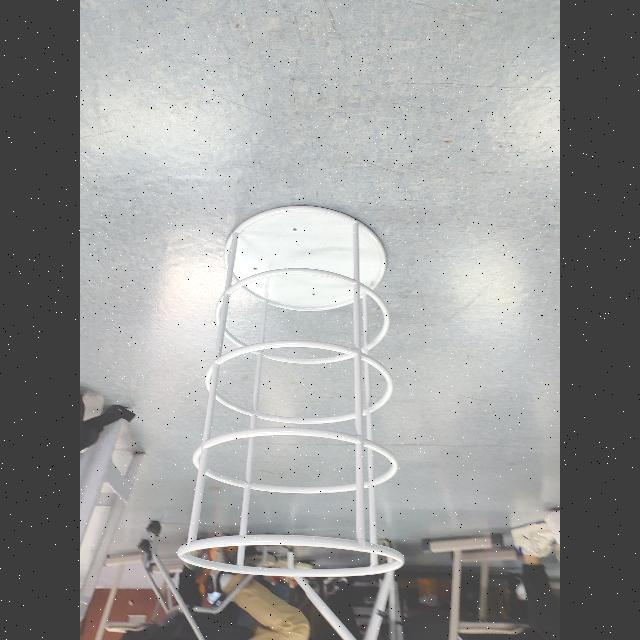S: (175, 202, 408, 582)
